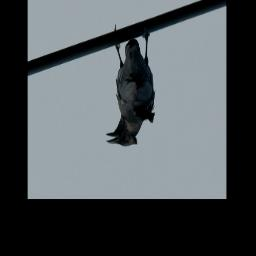Crow: (106, 22, 155, 150)
